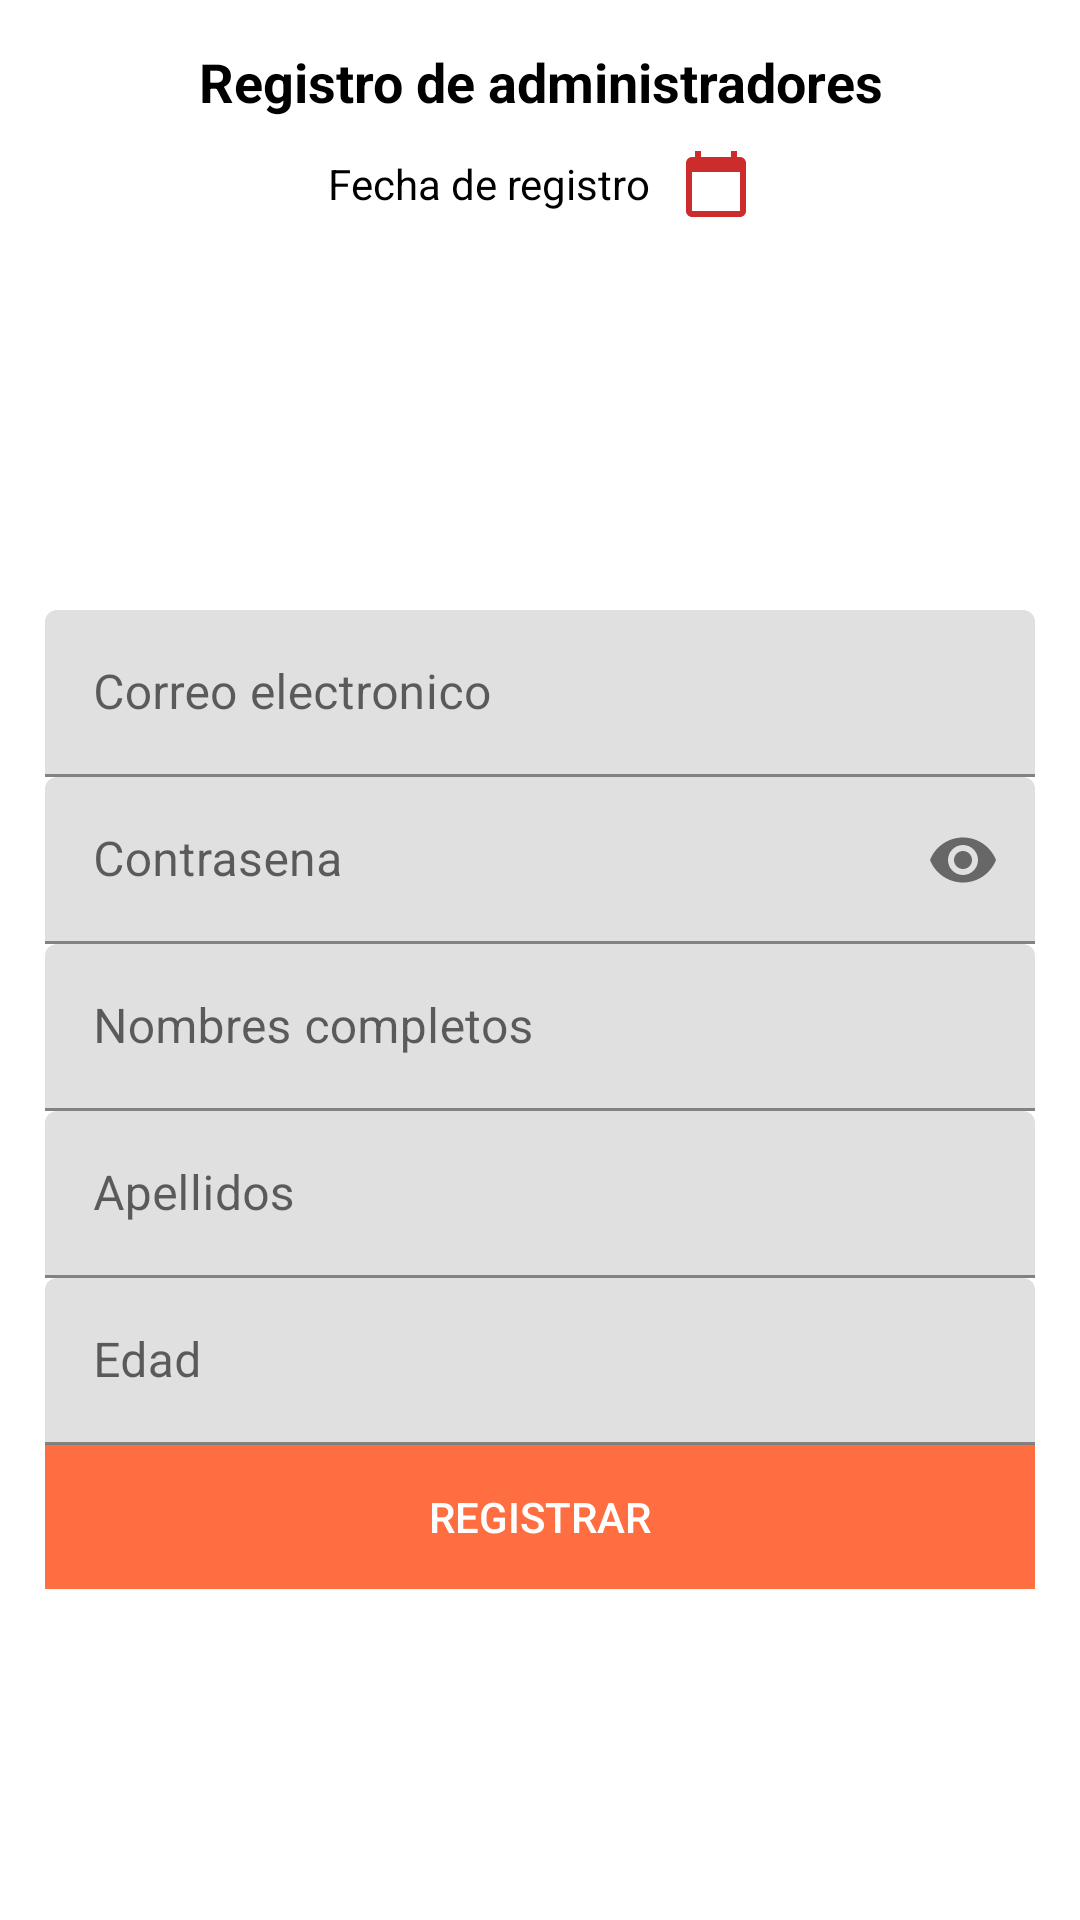

Icons on this 1080w x 1920h Android screen, each with its box as {"x1": x1, "y1": y1, "x2": x2, "y2": y2}:
calendario: {"x1": 686, "y1": 151, "x2": 746, "y2": 217}
